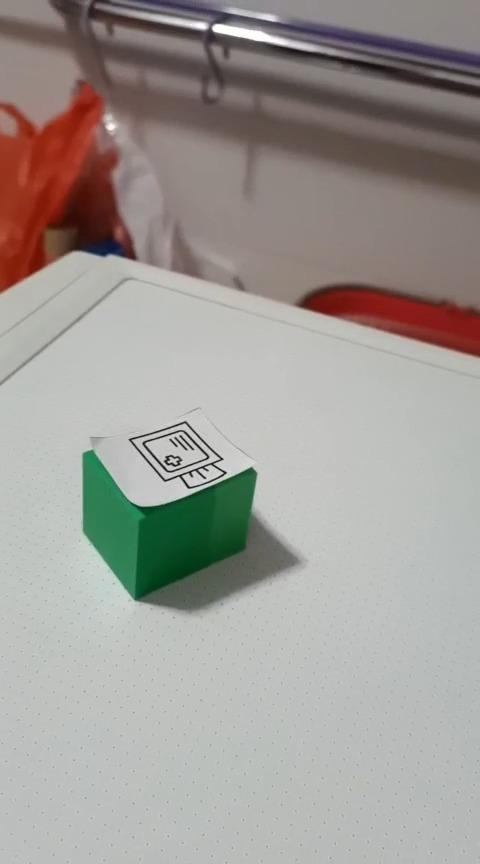Gauze: (80, 404, 258, 601)
